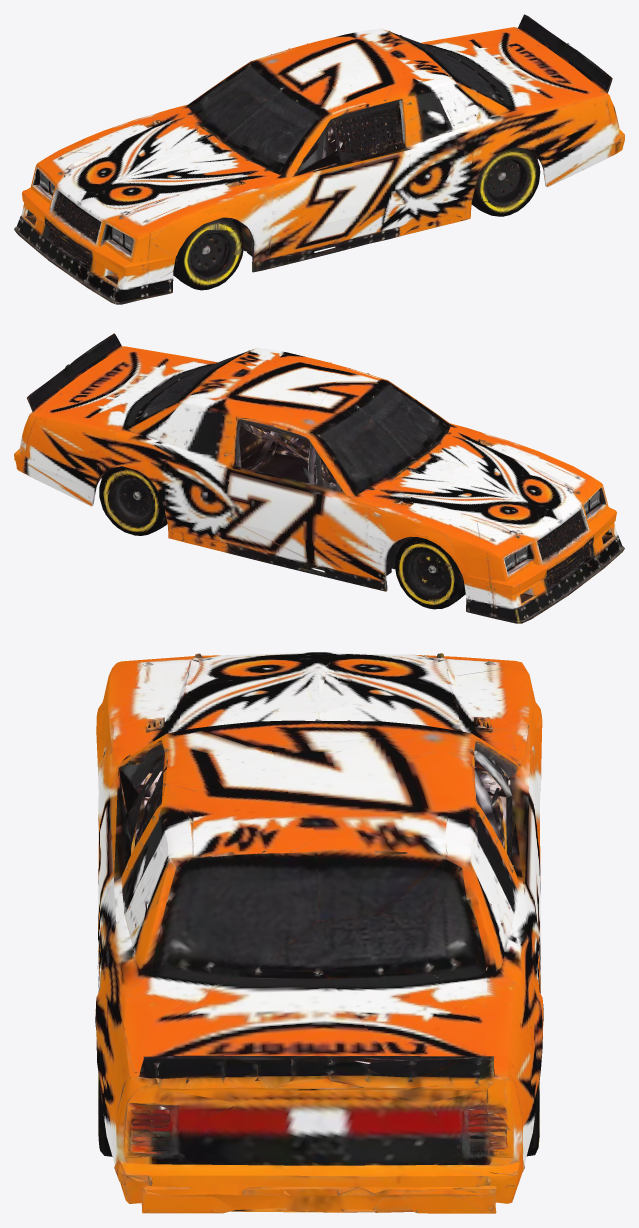
The model's file is car-7-owl.glb.
3 views of the same model, one above another, from view 1: azimuth 30°, elevation 25°; view 2: azimuth 150°, elevation 25°; view 3: azimuth 270°, elevation 25° (orthographic). The views are drawn at different scales.
Parts seen in each view (by area): view 1: Mesh_0; view 2: Mesh_0; view 3: Mesh_0.
Boxes of the visible parts, <box> form: Mesh_0: <box>14,14,624,304</box>; Mesh_0: <box>14,333,624,623</box>; Mesh_0: <box>95,652,543,1213</box>.
Size of the model in its own units: 1.9 by 0.4856 by 0.7086.
Materials: 1 (1 with a texture image).
